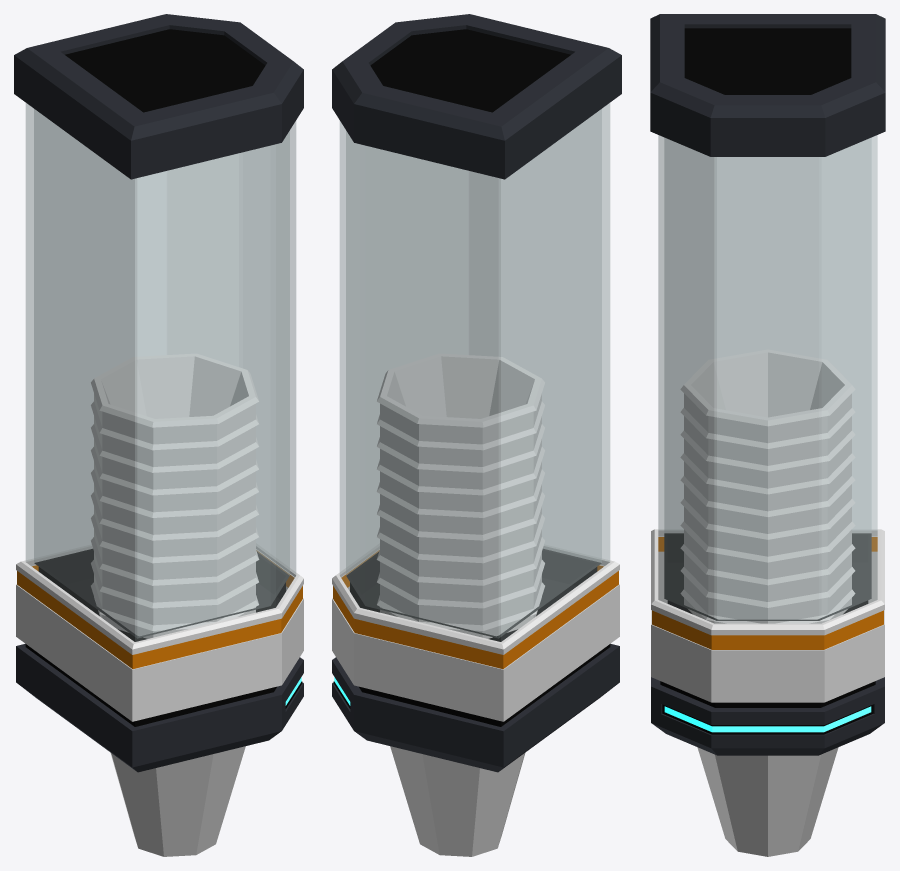
The model's file is SM_WallCupDispenser.fbx.
The picture shows the model from 3 angles, left to right: view 1: azimuth 30°, elevation 25°; view 2: azimuth 150°, elevation 25°; view 3: azimuth 270°, elevation 25°; orthographic projection.
Visible parts, largest first — view 1: SM_WallCupDispenser; view 2: SM_WallCupDispenser; view 3: SM_WallCupDispenser.
Boxes of the visible parts, x1,y1,x2,y2 form: SM_WallCupDispenser: [14, 14, 303, 856]; SM_WallCupDispenser: [332, 14, 621, 856]; SM_WallCupDispenser: [650, 14, 885, 856].
Bounding box in the file's own units: 11.21 × 40.84 × 11.18.
